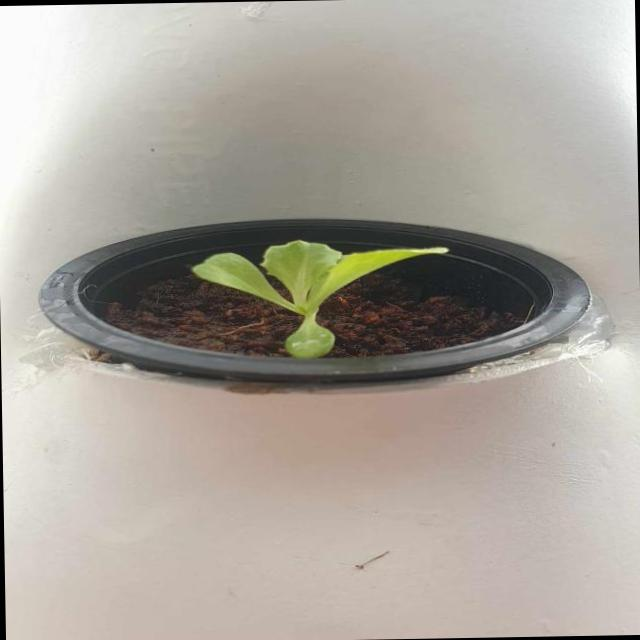Lettuce-Not-Ready-to-Harvest: (192, 239, 448, 358)
